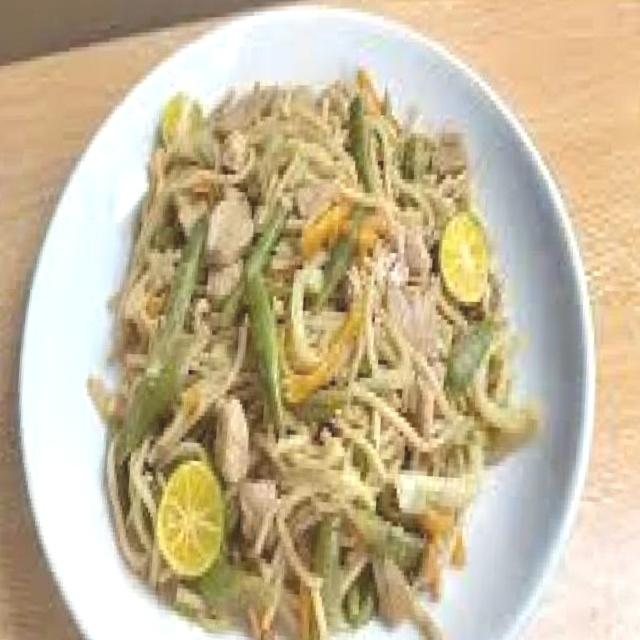pancit bihon: (108, 83, 537, 633)
